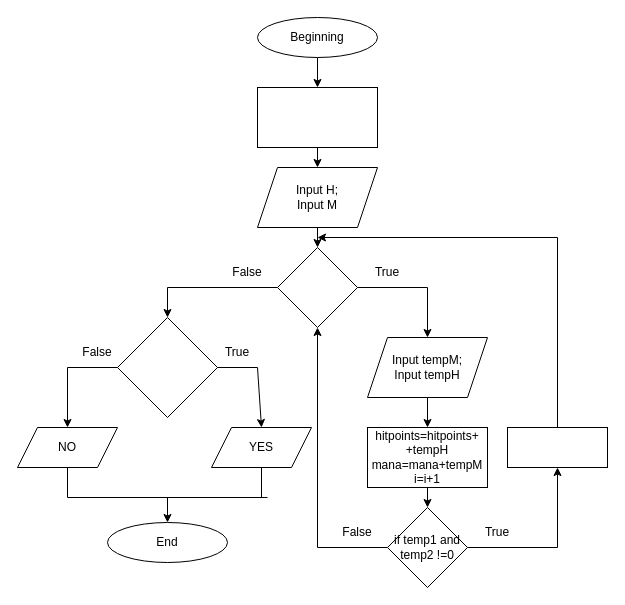
Some shapes in this 625 by 605 pixel diagram are drawn without their labels. Here are the shapes that lost their labels. From the top down, the centre of each, then its label:
At (x=317, y=117): "hitponts=0; mana=0; end=true; i=1".
At (x=317, y=287): "if i<=3".
At (x=167, y=367): "H-hitpoints and M-mana>=0; end=true".
At (x=557, y=447): "end=false".
